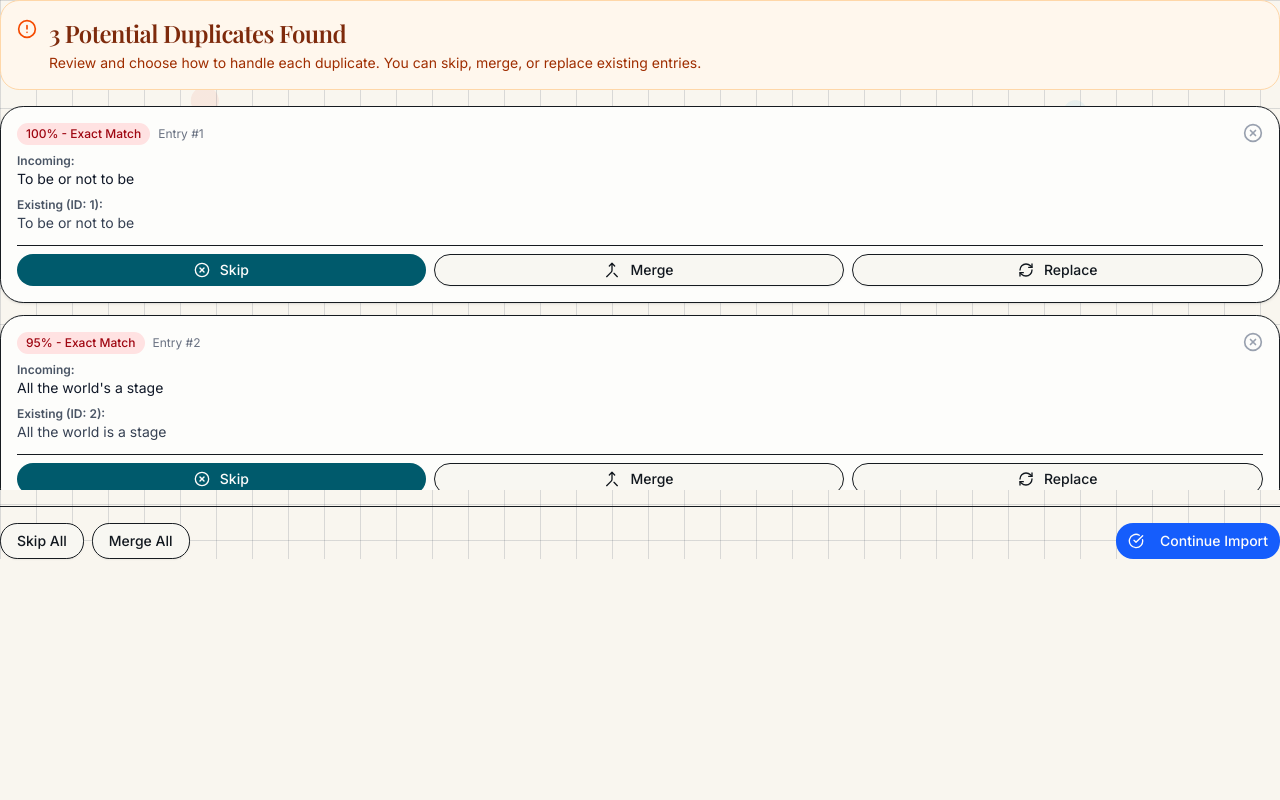
Test: DuplicateConflictResolver › should handle entry detail dialog
The image size is (1280, 800).
Click on a duplicate card to open detail dialog
Click the text "Entry #1". click: [181, 134]
box: [158, 126, 204, 142]
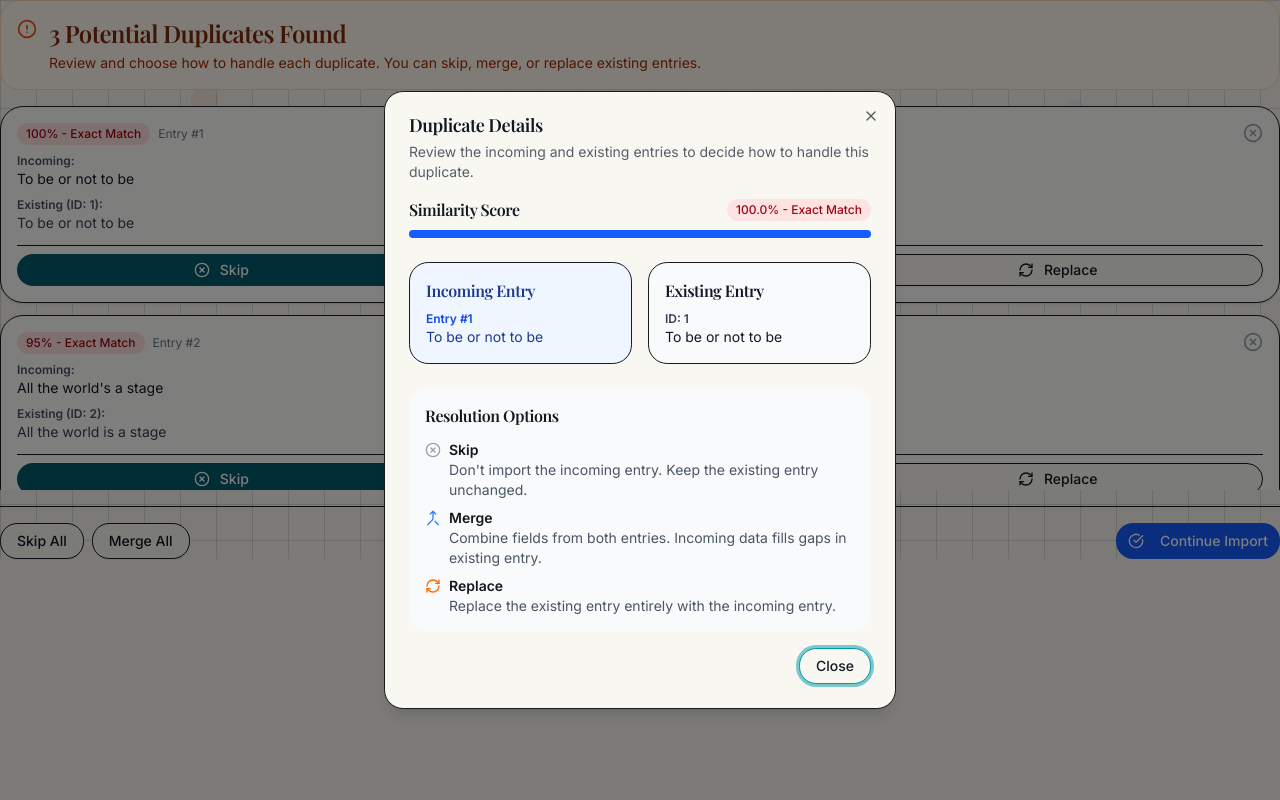
Check: the heading "Duplicate Details" is shown, box [409, 113, 543, 137]
Check: the heading "Similarity Score" is shown, box [409, 198, 520, 222]
